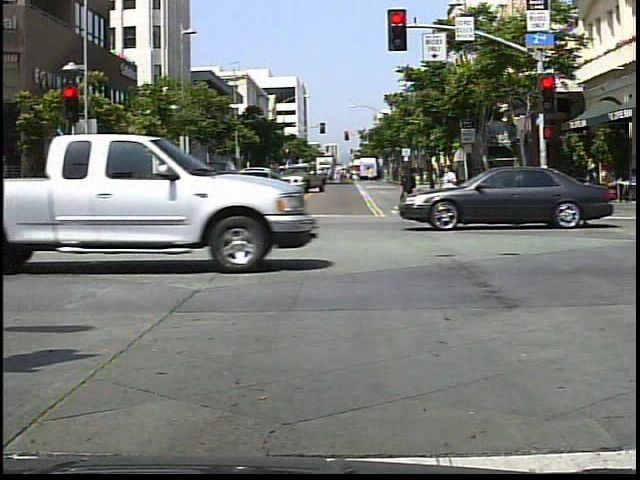person: (439, 159, 471, 223), (157, 166, 190, 225), (395, 162, 420, 207)
